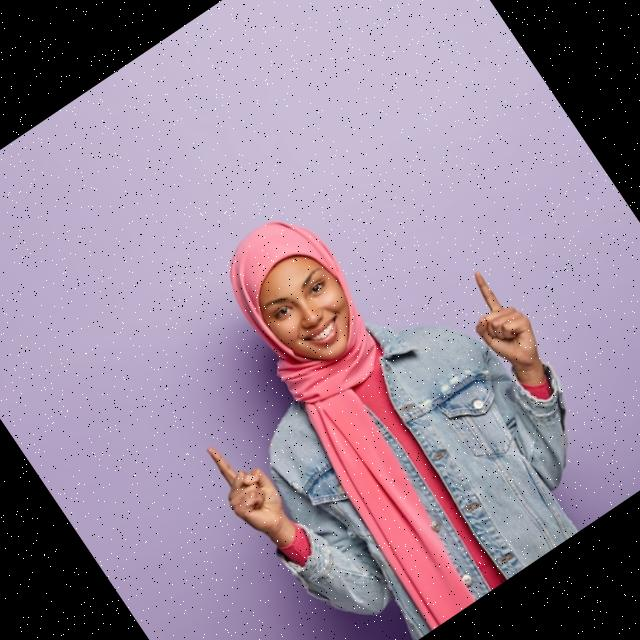Person: (109, 130, 640, 640)
